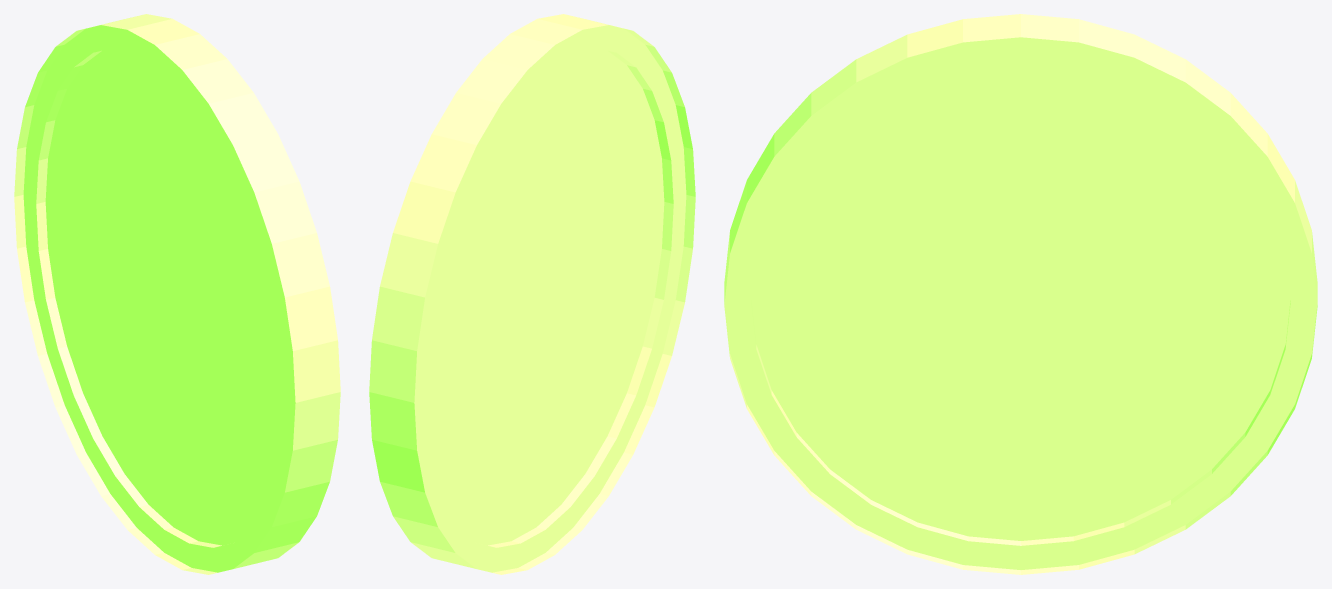
File: GreenCoin.glb
3 views of the same model, side by side, from view 1: azimuth 30°, elevation 25°; view 2: azimuth 150°, elevation 25°; view 3: azimuth 270°, elevation 25° (orthographic). The views are drawn at different scales.
Parts seen in each view (by area): view 1: Cylinder; view 2: Cylinder; view 3: Cylinder.
Part boxes in pixels (x1,y1,x2,y2): Cylinder: [14, 14, 340, 574]; Cylinder: [369, 14, 695, 574]; Cylinder: [724, 14, 1317, 574].
Bounding box in the file's own units: 0.1857 × 2 × 2.
